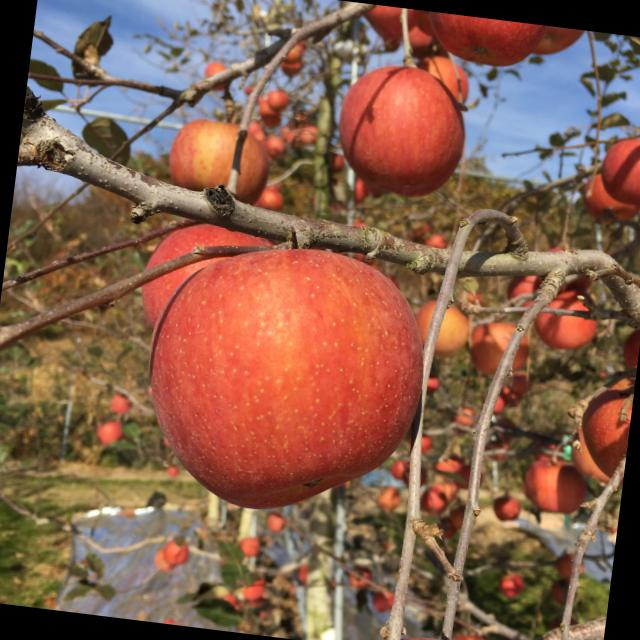fresh: (126, 225, 448, 528)
